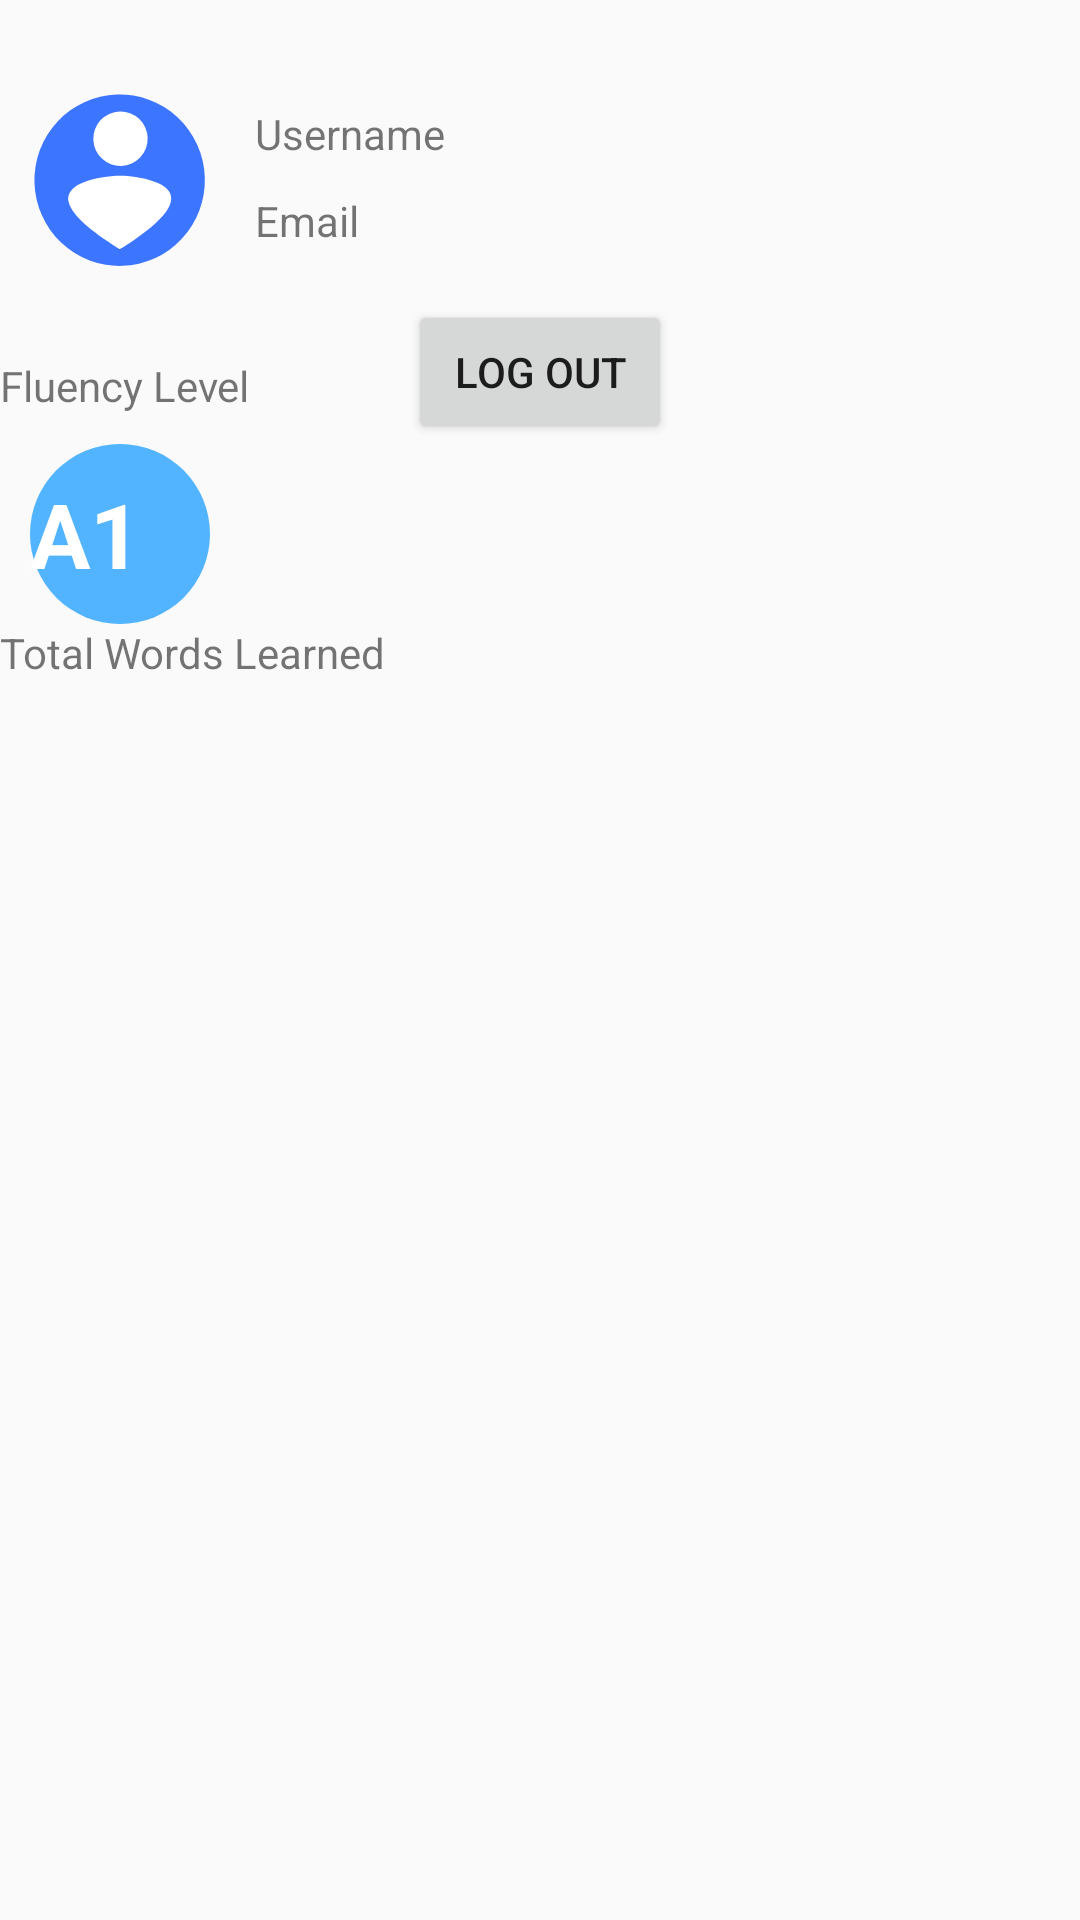

Icons on this 1080×1920 Android screen, each with its box as {"left": x1, "top": y1, "right": x2, "bottom": y2}:
usericon: {"left": 34, "top": 94, "right": 205, "bottom": 266}
